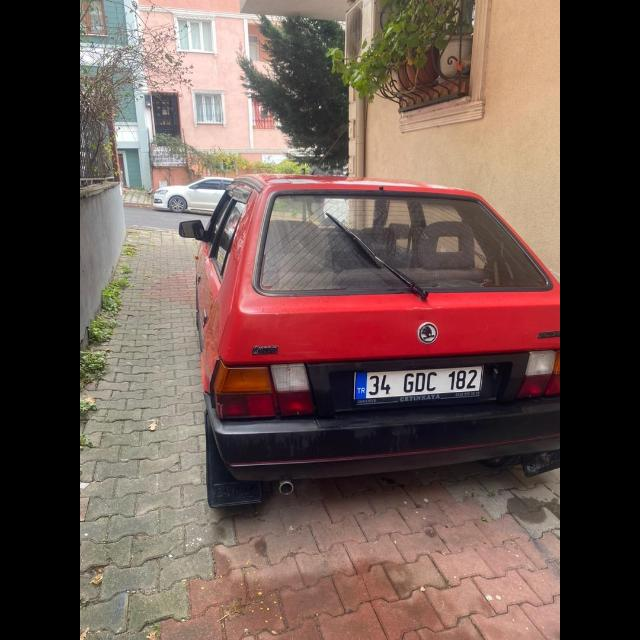Plaka: (358, 366, 484, 398)
